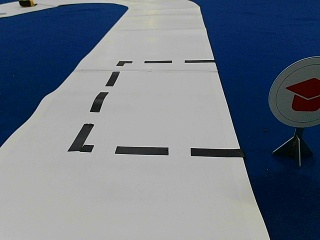school: (269, 57, 319, 127)
